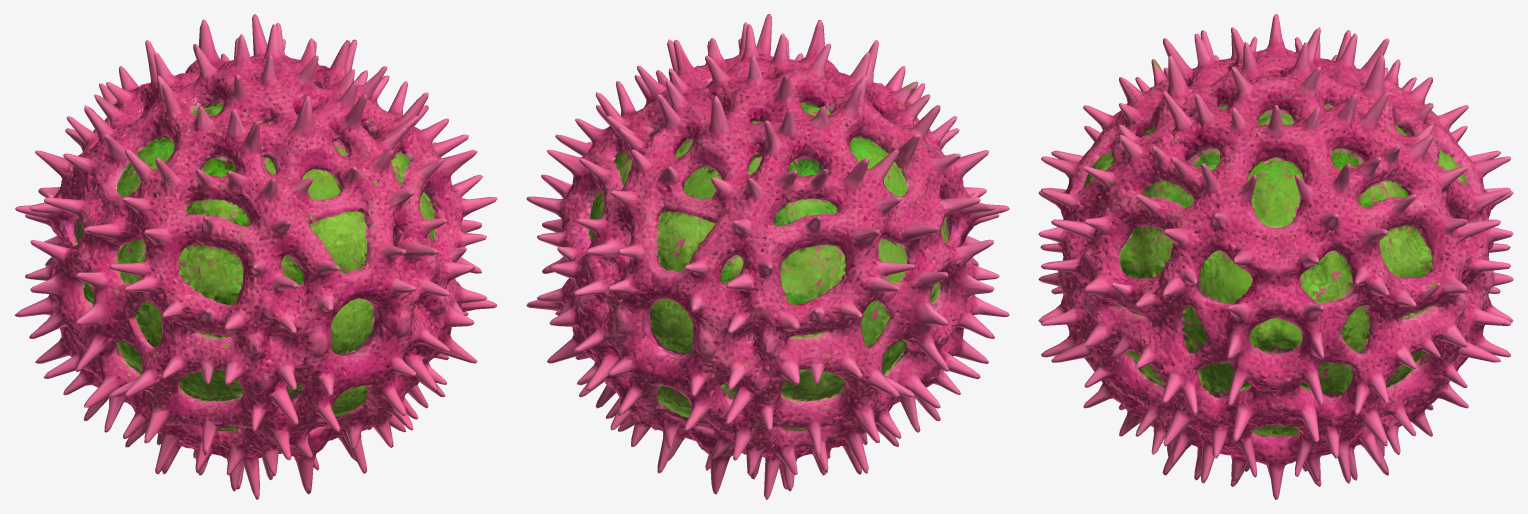
Rendered from pollen-s.glb.
3 renders of one model, left to right at view 1: azimuth 30°, elevation 25°; view 2: azimuth 150°, elevation 25°; view 3: azimuth 270°, elevation 25°, orthographic.
Parts seen in each view (by area): view 1: Meshy_AI_Spiked_Virus_Sphere_0503195031_texture; view 2: Meshy_AI_Spiked_Virus_Sphere_0503195031_texture; view 3: Meshy_AI_Spiked_Virus_Sphere_0503195031_texture.
Part boxes in pixels (x1,y1,x2,y2): Meshy_AI_Spiked_Virus_Sphere_0503195031_texture: [14, 14, 497, 499]; Meshy_AI_Spiked_Virus_Sphere_0503195031_texture: [526, 14, 1009, 499]; Meshy_AI_Spiked_Virus_Sphere_0503195031_texture: [1038, 14, 1513, 499].
Bounding box in the file's own units: 0.019 × 0.0189 × 0.019.
Materials: 1 (1 with a texture image).
